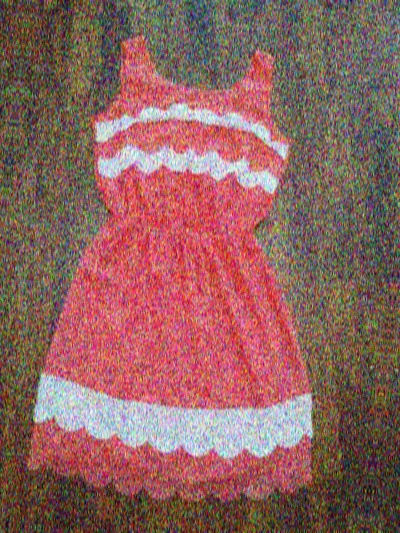Dress: (6, 25, 382, 530)
